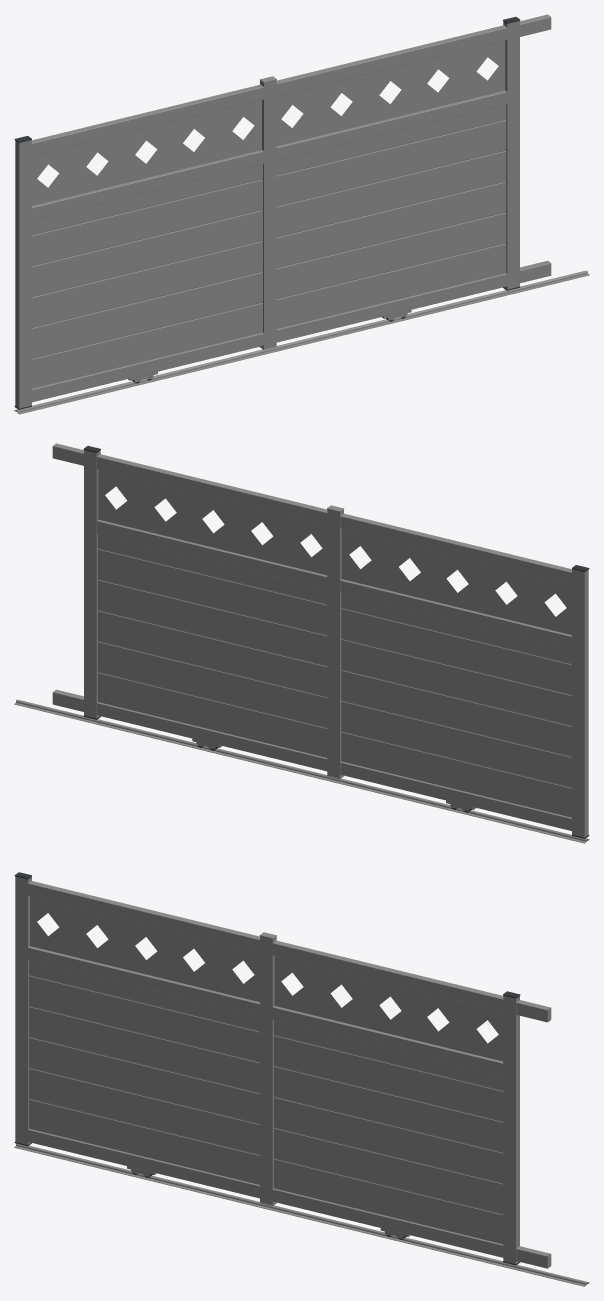
3 views of the same model, one above another, from view 1: azimuth 30°, elevation 25°; view 2: azimuth 150°, elevation 25°; view 3: azimuth 330°, elevation 25° (orthographic).
Visible parts, largest first — view 1: Shape107412161, Shape107412160, Shape107412162, Shape107412157, Shape107412159, losange002, losange, Shape107412167, Shape107412166, Shape107412156, Shape107411709, Pilar (+3 smaller); view 2: Shape107412161, Shape107412162, Shape107412160, Shape107412157, Shape107412159, losange, losange002, Shape107412167, Shape107412166, Shape107412156, Shape107411709, Pilar (+3 smaller); view 3: Shape107412161, Shape107412160, Shape107412162, Shape107412157, Shape107412159, losange, losange002, Shape107412167, Shape107412166, Shape107412156, Shape107411709, Pilar001 (+3 smaller).
Part boxes in pixels (x1=…): Shape107412161: x1=32, y1=181, x2=506, y2=327; Shape107412160: x1=32, y1=212, x2=506, y2=358; Shape107412162: x1=32, y1=150, x2=506, y2=296; Shape107412157: x1=32, y1=119, x2=506, y2=265; Shape107412159: x1=32, y1=243, x2=506, y2=388; losange002: x1=276, y1=41, x2=505, y2=146; losange: x1=32, y1=100, x2=261, y2=205; Shape107412167: x1=32, y1=14, x2=551, y2=155; Shape107412166: x1=32, y1=260, x2=551, y2=402; Shape107412156: x1=32, y1=104, x2=506, y2=234; Shape107411709: x1=32, y1=90, x2=507, y2=220; Pilar: x1=15, y1=140, x2=31, y2=408; Shape107412161: x1=98, y1=610, x2=571, y2=756; Shape107412162: x1=98, y1=579, x2=571, y2=725; Shape107412160: x1=98, y1=641, x2=571, y2=787; Shape107412157: x1=98, y1=548, x2=571, y2=694; Shape107412159: x1=98, y1=672, x2=571, y2=817; losange: x1=341, y1=529, x2=571, y2=634; losange002: x1=98, y1=469, x2=327, y2=575; Shape107412167: x1=52, y1=443, x2=571, y2=584; Shape107412166: x1=52, y1=689, x2=571, y2=830; Shape107412156: x1=98, y1=533, x2=571, y2=663; Shape107411709: x1=97, y1=519, x2=571, y2=648; Pilar: x1=572, y1=569, x2=588, y2=837; Shape107412161: x1=29, y1=1036, x2=503, y2=1182; Shape107412160: x1=29, y1=1067, x2=503, y2=1213; Shape107412162: x1=29, y1=1006, x2=503, y2=1151; Shape107412157: x1=29, y1=975, x2=503, y2=1121; Shape107412159: x1=29, y1=1098, x2=503, y2=1244; losange: x1=30, y1=896, x2=259, y2=1001; losange002: x1=274, y1=956, x2=503, y2=1061; Shape107412167: x1=28, y1=881, x2=551, y2=1022; Shape107412166: x1=28, y1=1128, x2=551, y2=1268; Shape107412156: x1=29, y1=960, x2=503, y2=1090; Shape107411709: x1=28, y1=946, x2=503, y2=1075; Pilar001: x1=503, y1=995, x2=519, y2=1264.
Bounding box in the file's own units: 3600 × 1640 × 60.02.
5 materials, 2 textured.
